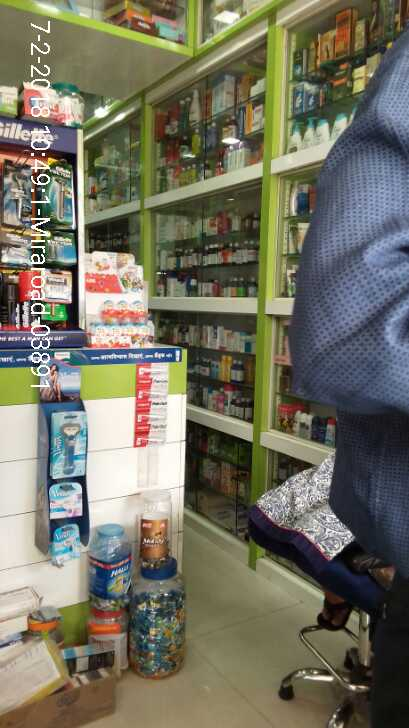venus: (52, 415, 87, 474), (48, 485, 84, 516), (57, 528, 83, 560)
